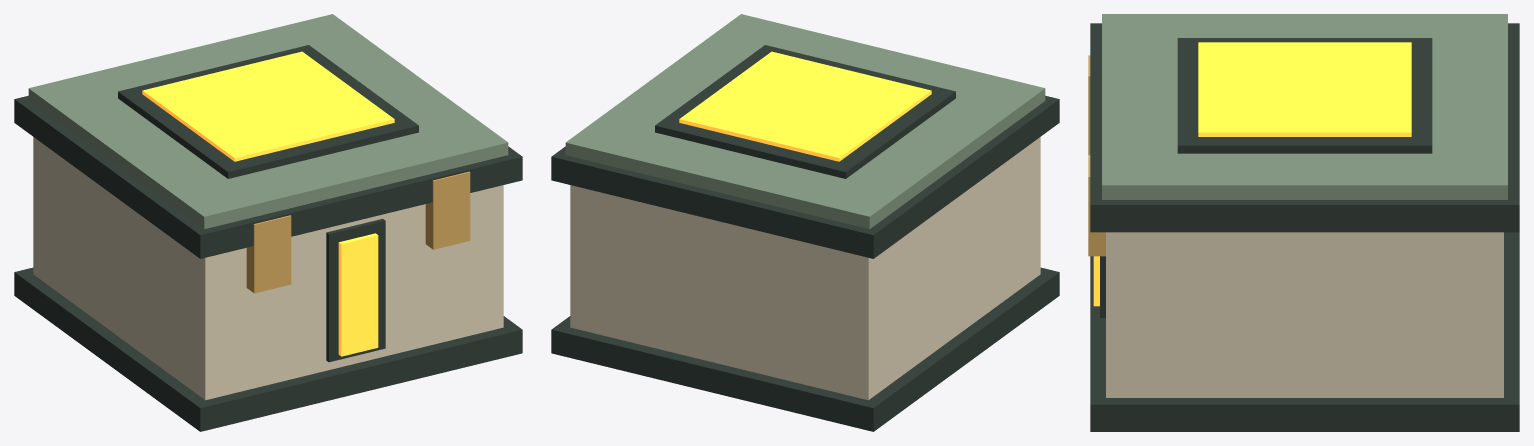
The model's file is quality-hot.glb.
3 views of the same model, side by side, from view 1: azimuth 30°, elevation 25°; view 2: azimuth 150°, elevation 25°; view 3: azimuth 270°, elevation 25° (orthographic). The views are drawn at different scales.
Parts seen in each view (by area): view 1: Insulated case, Mesh_CargoContainer_ink, Sealed case lid, ThermalSurface, Mesh_CargoContainer_brass, Quantity fill; view 2: Insulated case, Mesh_CargoContainer_ink, Sealed case lid, ThermalSurface; view 3: Insulated case, Mesh_CargoContainer_ink, Sealed case lid, ThermalSurface, Mesh_CargoContainer_brass.
Boxes of the visible parts, bbox=[...] form: Insulated case: bbox=[33, 137, 503, 400]; Mesh_CargoContainer_ink: bbox=[14, 45, 522, 431]; Sealed case lid: bbox=[28, 14, 508, 229]; ThermalSurface: bbox=[142, 51, 394, 161]; Mesh_CargoContainer_brass: bbox=[246, 171, 470, 293]; Quantity fill: bbox=[338, 233, 378, 356]; Insulated case: bbox=[570, 137, 1040, 400]; Mesh_CargoContainer_ink: bbox=[551, 45, 1059, 431]; Sealed case lid: bbox=[565, 14, 1045, 229]; ThermalSurface: bbox=[679, 51, 931, 161]; Insulated case: bbox=[1106, 232, 1503, 397]; Mesh_CargoContainer_ink: bbox=[1090, 23, 1519, 431]; Sealed case lid: bbox=[1102, 14, 1507, 199]; ThermalSurface: bbox=[1198, 42, 1411, 136]; Mesh_CargoContainer_brass: bbox=[1088, 55, 1105, 256].
Size of the model in its own units: 0.54 by 0.358 by 0.5425.
